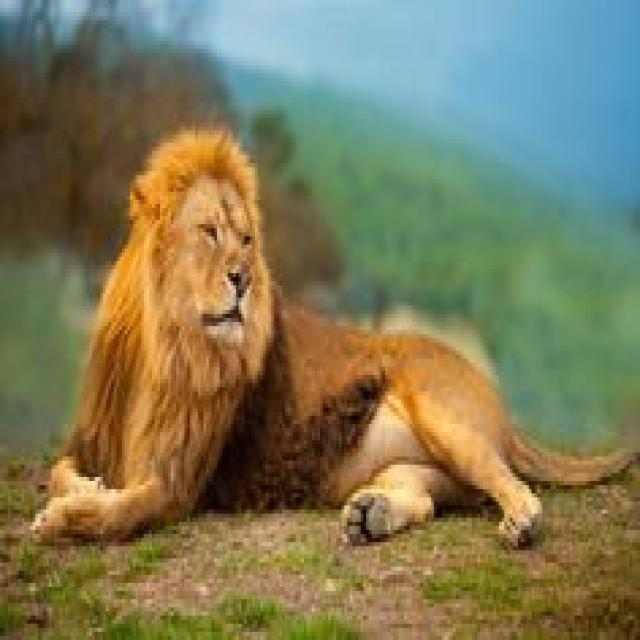lions: (37, 69, 639, 601)
